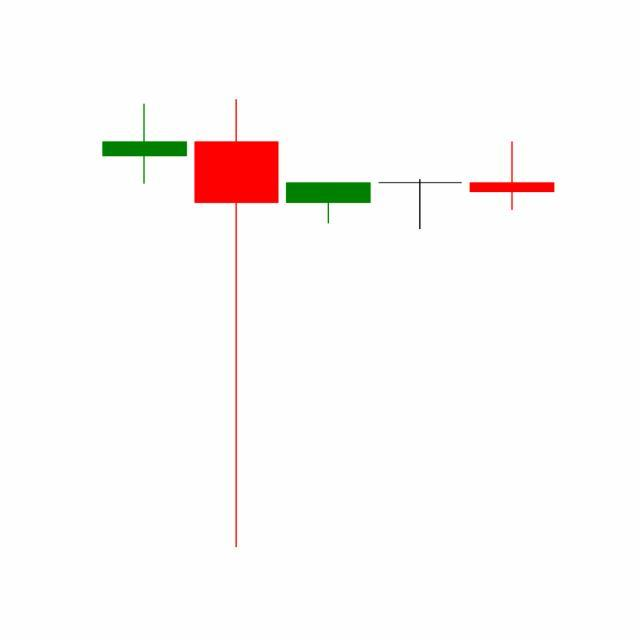Spinning Top: (374, 179, 468, 231)
